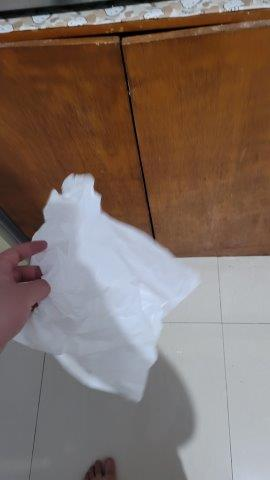plastik: (14, 173, 197, 403)
